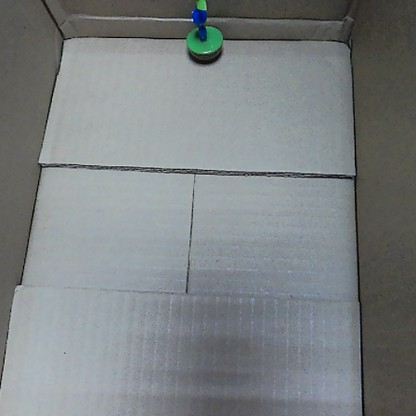leafairy: (181, 0, 225, 64)
